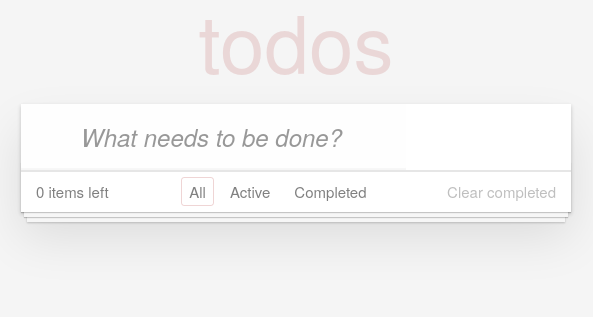
Test case: добавляет задачи
In the field with placeholder "What needs to be done?": (214, 137) x1=21 y1=104 x2=406 y2=170, type "Задача 1"
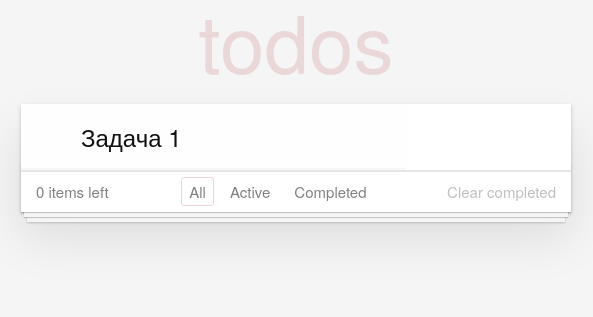
Submit the form with placeholder "What needs to be done?", box x1=21 y1=104 x2=406 y2=170
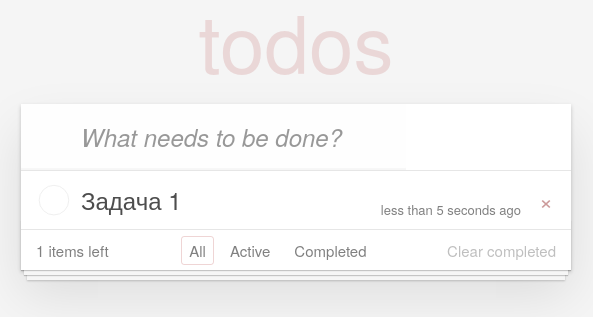
Result: the text "Задача 1" is shown at x1=81 y1=182 x2=182 y2=217
